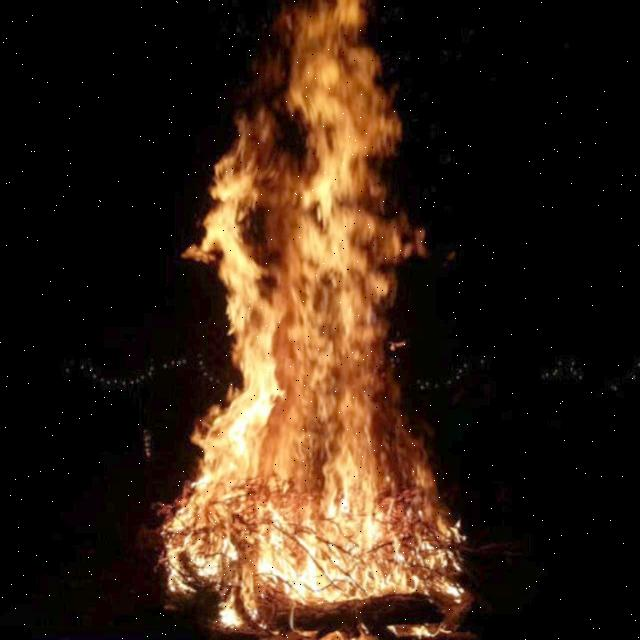fire: (187, 17, 405, 590)
